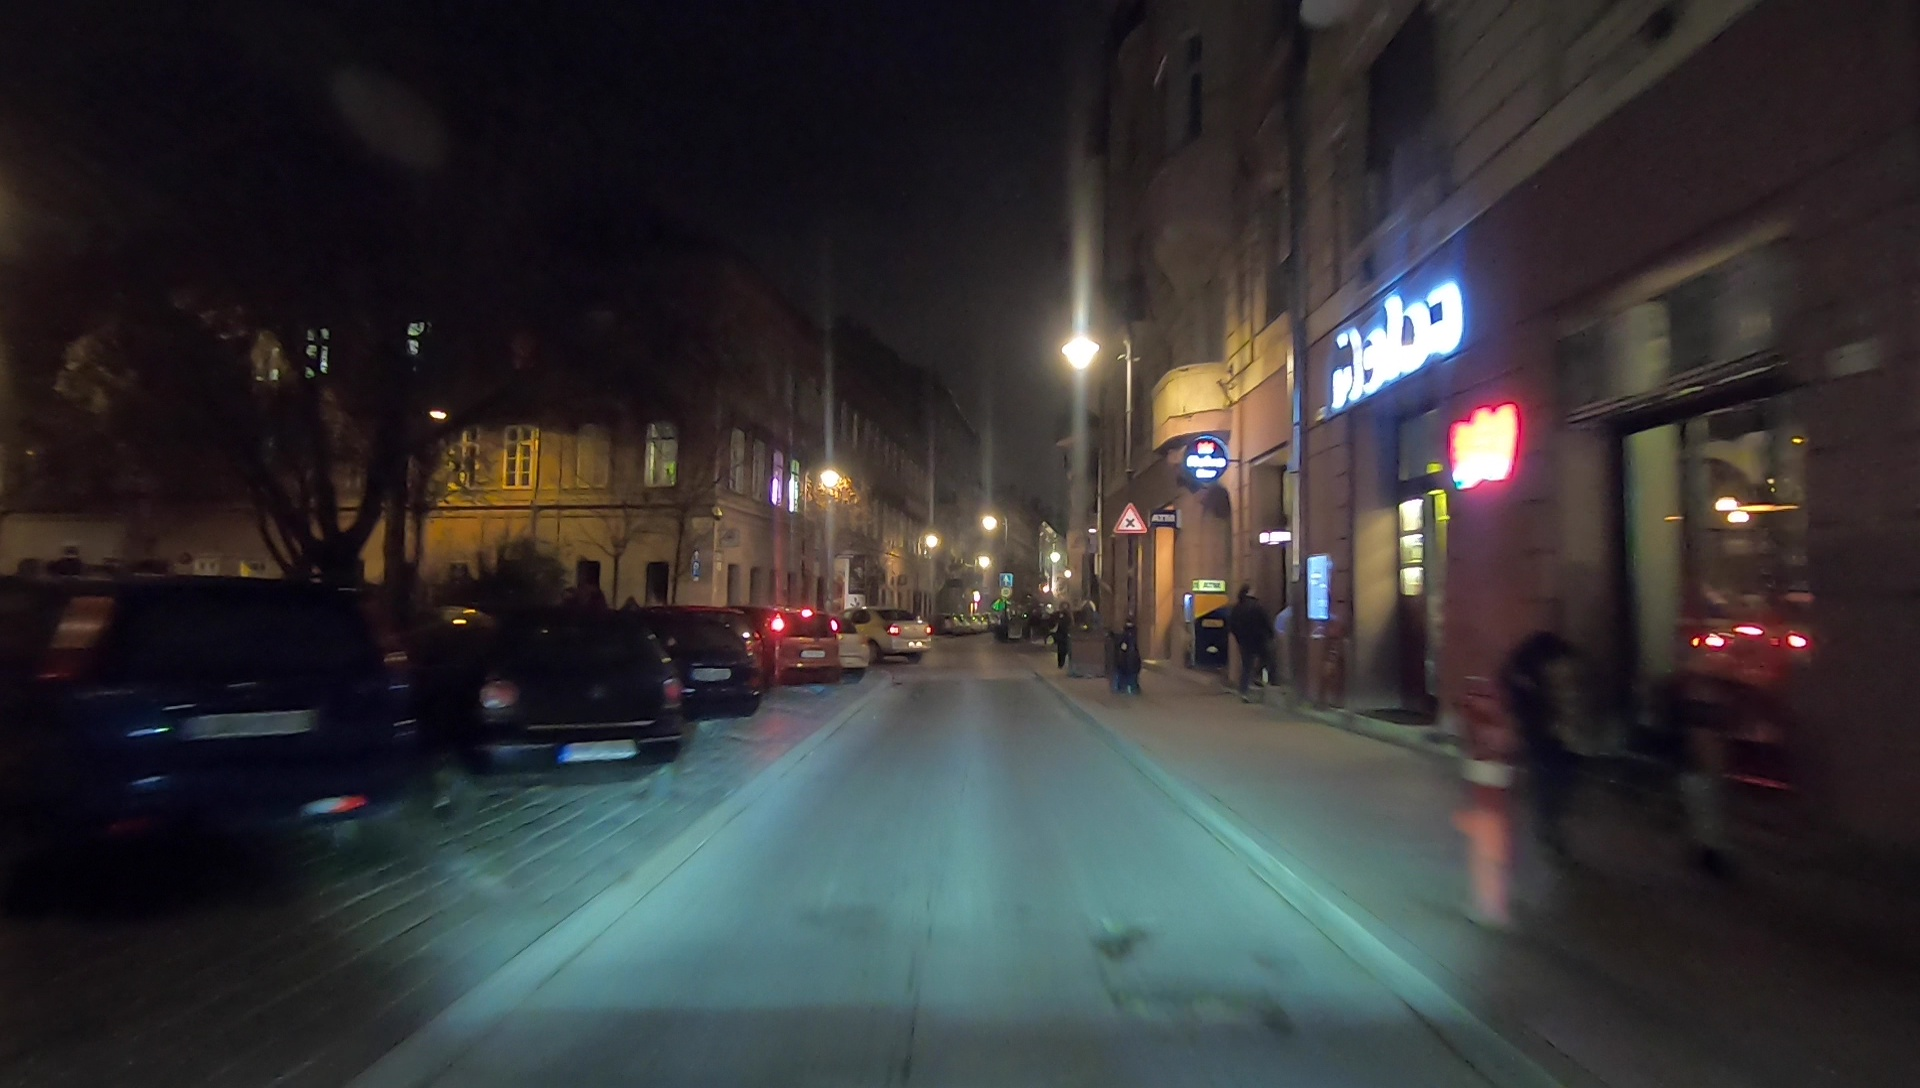person: (1510, 576, 1606, 873), (1228, 586, 1284, 700), (1050, 601, 1078, 668)
